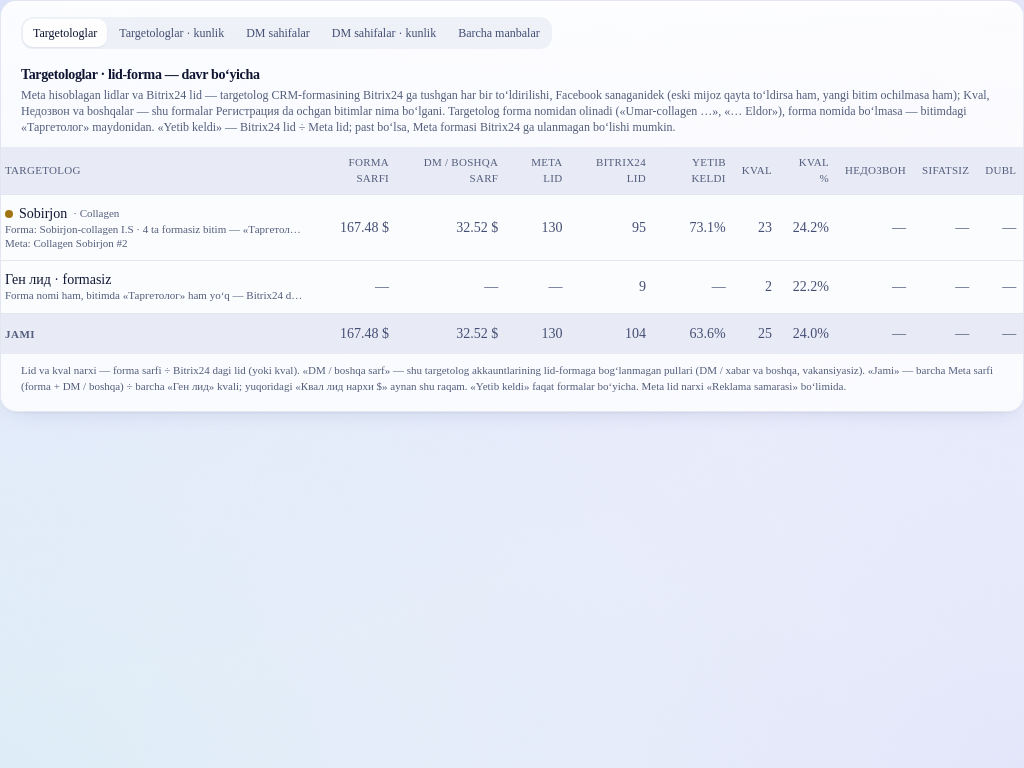
TablesBlock › keeps a day view's pick across the switch
The image size is (1024, 768).
Step 1. Click the button "Targetologlar · kunlik" → (172, 33), box [109,19,234,47]
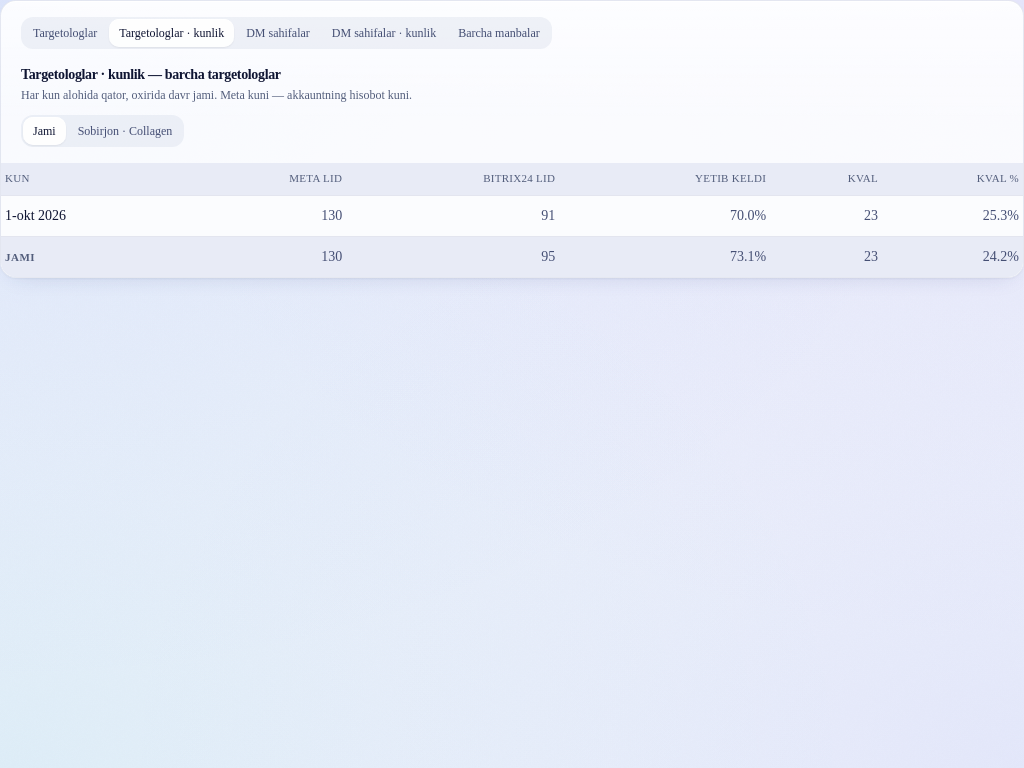
Expected: the heading "Targetologlar · kunlik — barcha targetologlar" is shown, [21,67,281,82]
Step 2. Click the button "Sobirjon · Collagen" → (125, 131), box [68,117,182,145]
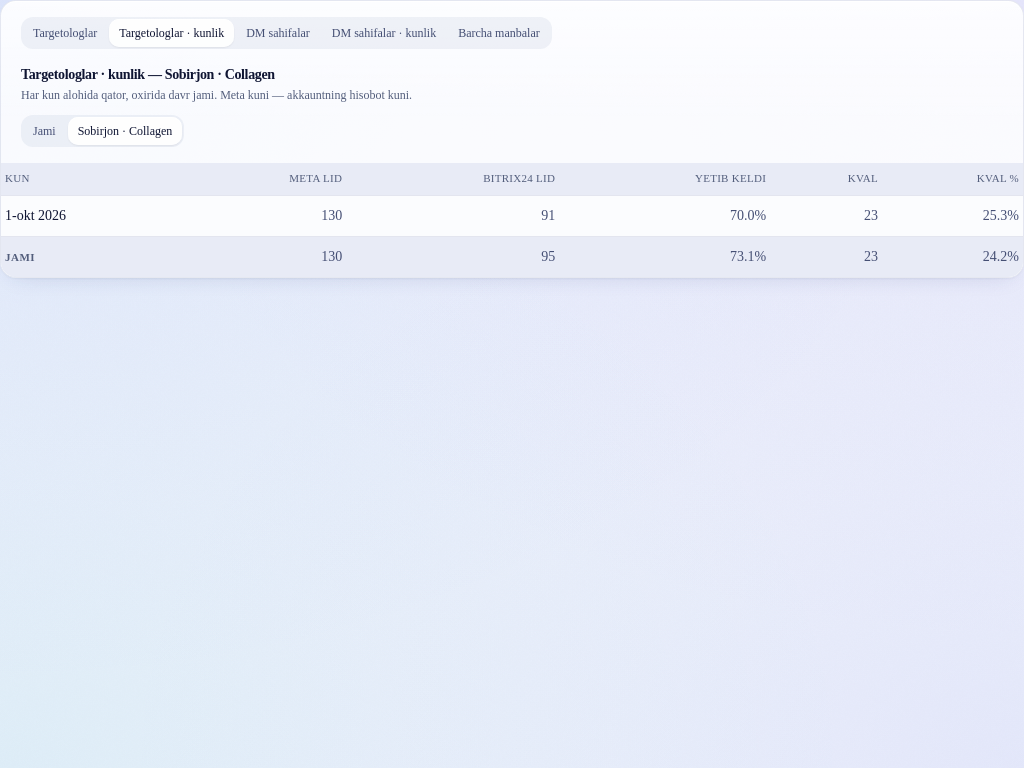
Expected: the heading "Targetologlar · kunlik — Sobirjon · Collagen" is shown, [21,67,275,82]
Step 3. Click the button "DM sahifalar · kunlik" → (384, 33), box [322,19,446,47]
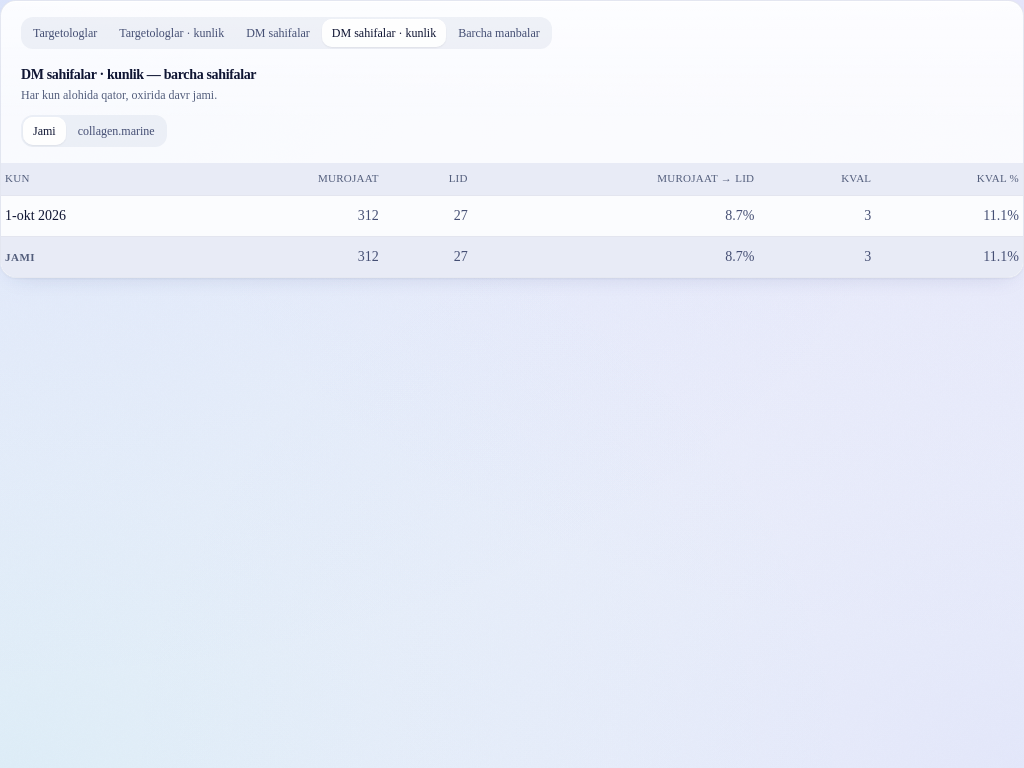
Expected: the heading "DM sahifalar · kunlik — barcha sahifalar" is shown, [21,67,256,82]
Step 4. Click the button "Targetologlar · kunlik" → (172, 33), box [109,19,234,47]
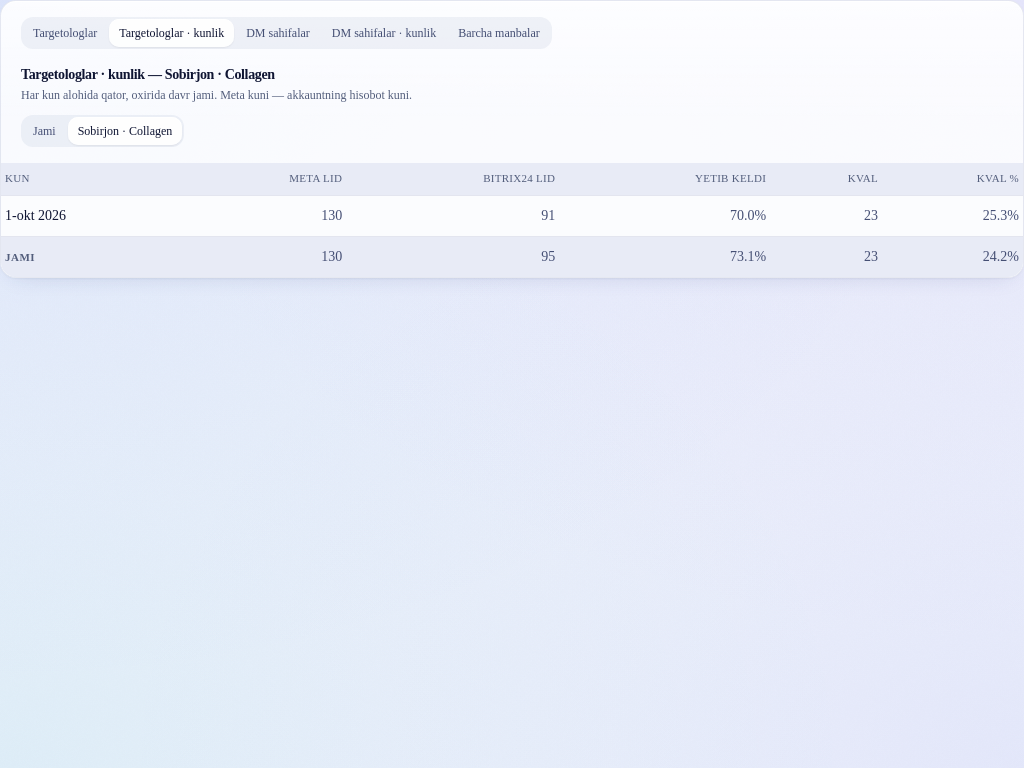
Expected: the heading "Targetologlar · kunlik — Sobirjon · Collagen" is shown, [21,67,275,82]
